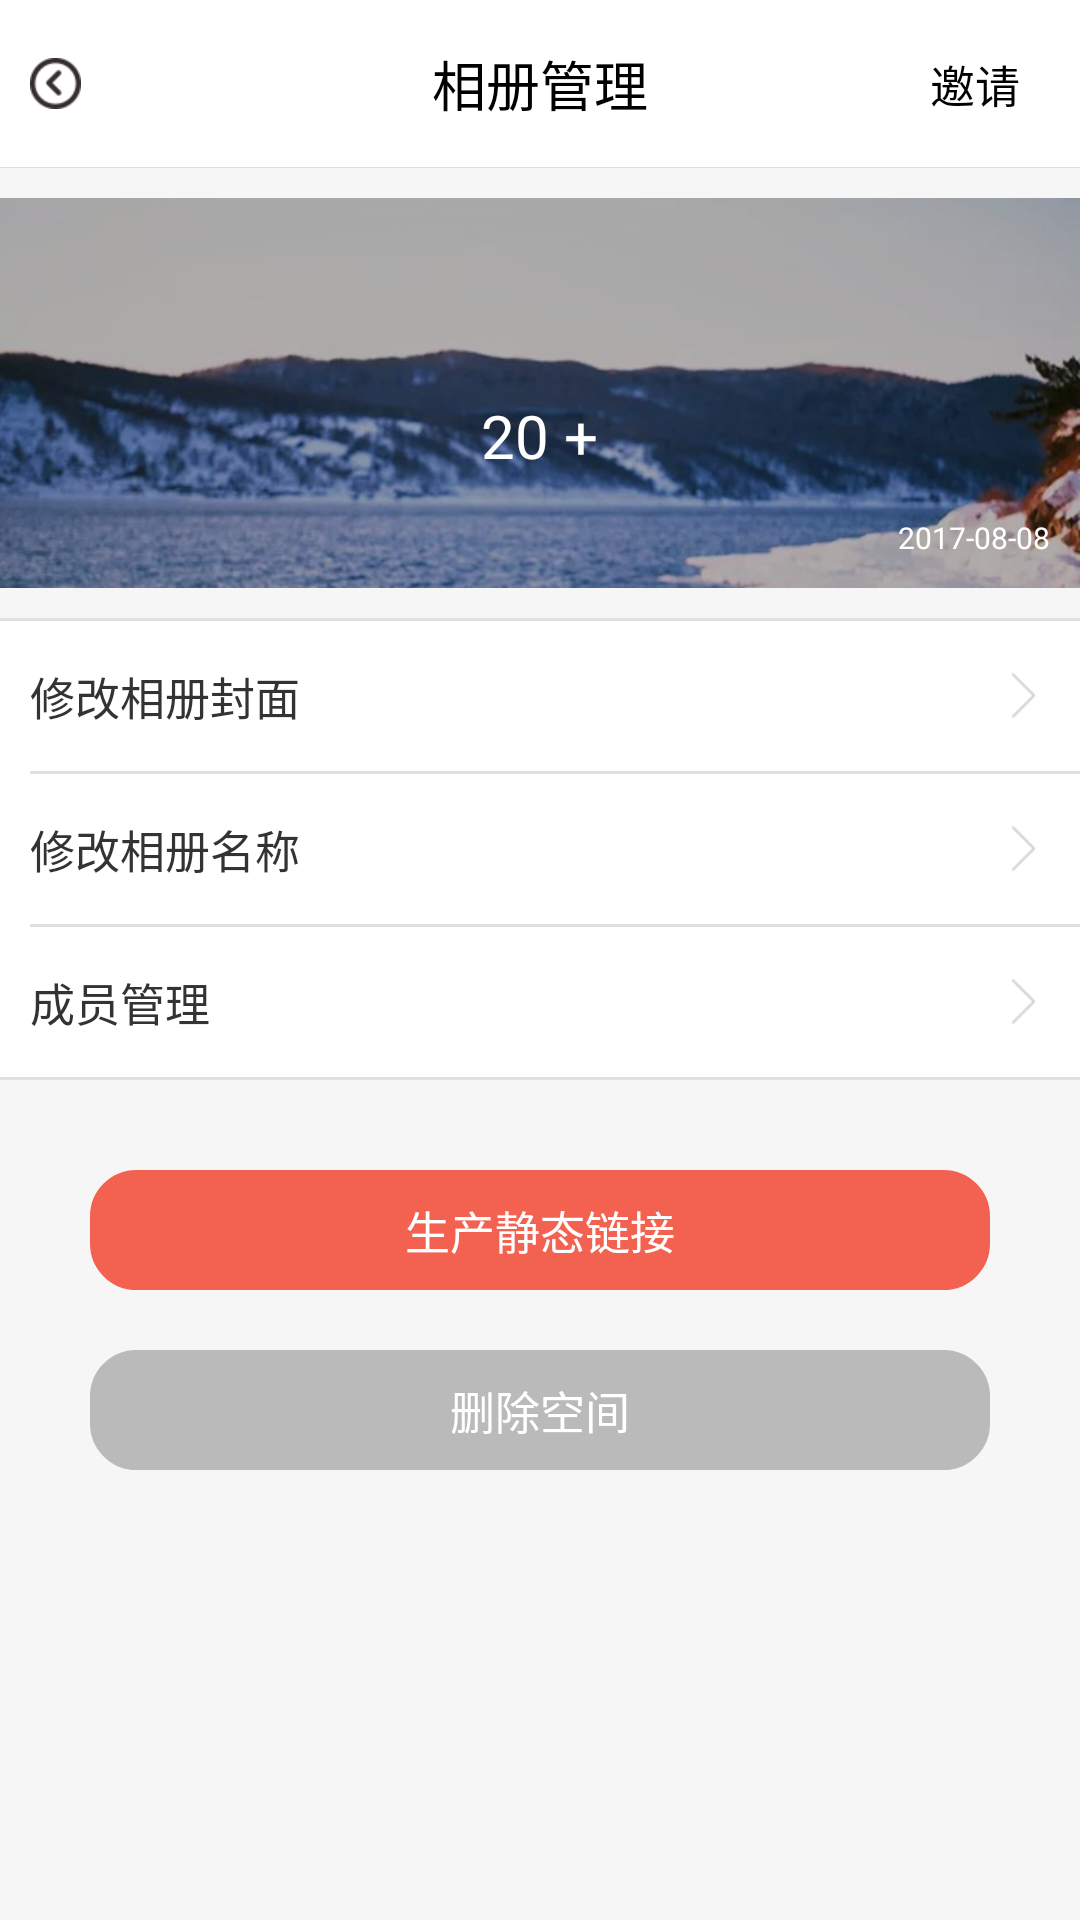

Locate icon controls on the screen. Image size 1080x1920, boxes as (x1, y1, x2, y2).
back: (30, 58, 81, 109)
